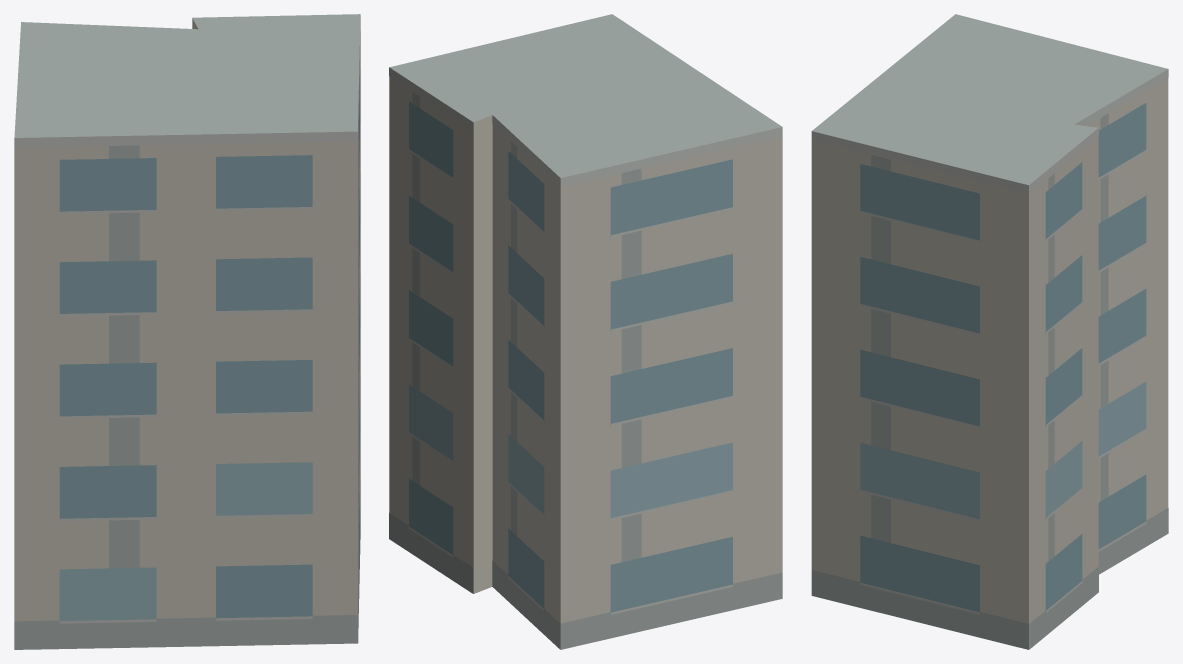
File: survey-upis-32729605.glb
The picture shows the model from 3 angles, left to right: view 1: azimuth 30°, elevation 25°; view 2: azimuth 150°, elevation 25°; view 3: azimuth 270°, elevation 25°; orthographic projection. The views are drawn at different scales.
Visible parts, largest first — view 1: survey-upis-32729605.tmp; view 2: survey-upis-32729605.tmp; view 3: survey-upis-32729605.tmp.
Boxes of the visible parts, x1,y1,x2,y2 form: survey-upis-32729605.tmp: (14,14,360,649); survey-upis-32729605.tmp: (389,14,782,649); survey-upis-32729605.tmp: (811,14,1168,649).
Size of the model in its own units: 10.05 by 12.7 by 8.85.
